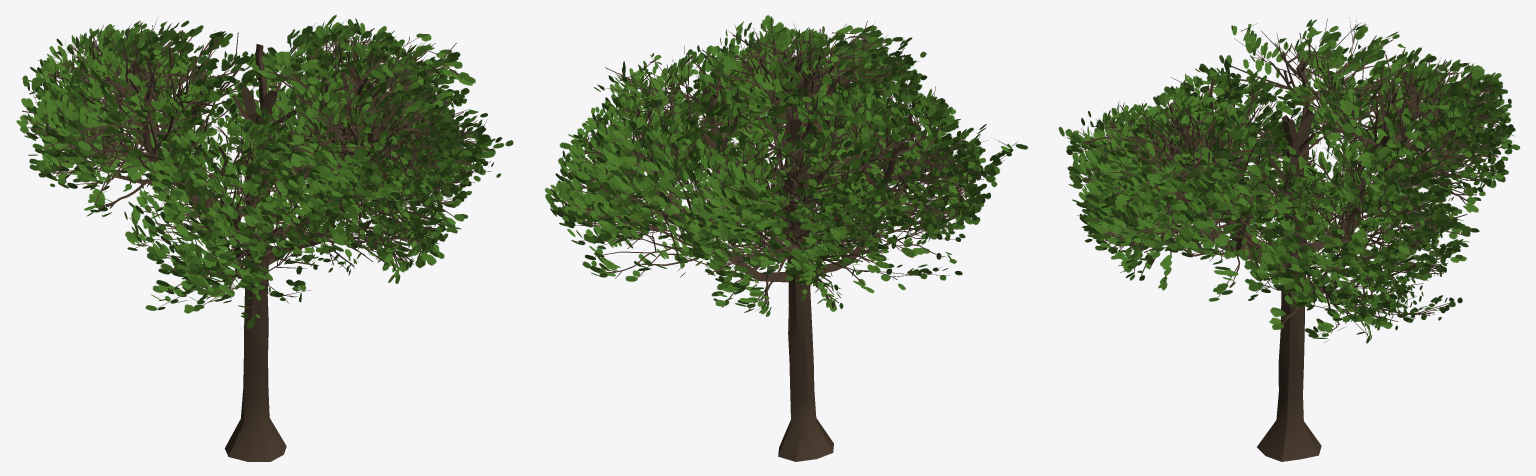
3 views of the same model, side by side, from view 1: azimuth 30°, elevation 25°; view 2: azimuth 150°, elevation 25°; view 3: azimuth 270°, elevation 25° (orthographic). The views are drawn at different scales.
Parts seen in each view (by area): view 1: oak 01.001_trunk_Mat.001_0.115; view 2: oak 01.001_trunk_Mat.001_0.115; view 3: oak 01.001_trunk_Mat.001_0.115.
Part boxes in pixels (x1,y1,x2,y2): oak 01.001_trunk_Mat.001_0.115: (16, 15, 513, 461); oak 01.001_trunk_Mat.001_0.115: (545, 15, 1028, 461); oak 01.001_trunk_Mat.001_0.115: (1058, 17, 1520, 461).
Size of the model in its own units: 5.23 by 4.31 by 5.08.
Materials: 2 (1 with a texture image).
